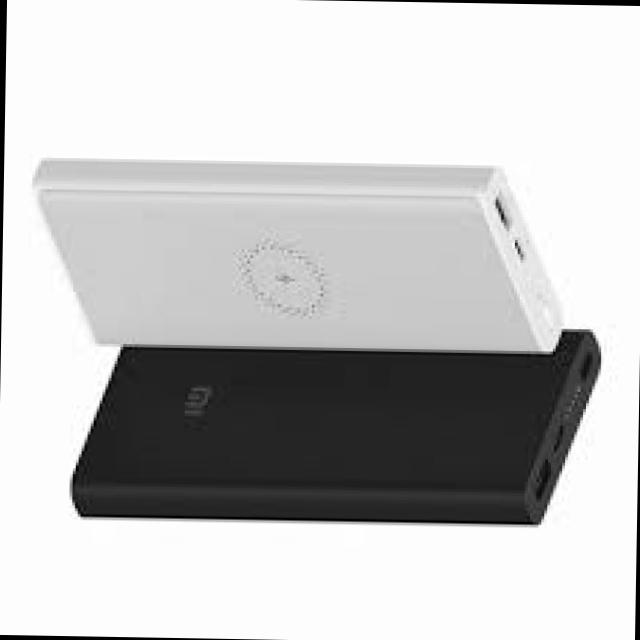portable-charger: (66, 314, 604, 534), (30, 160, 566, 354)
